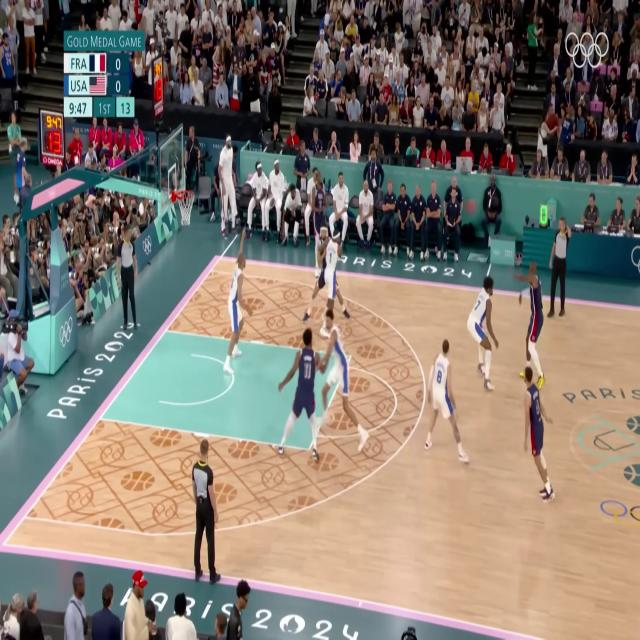player: (312, 304, 374, 471), (410, 321, 465, 482), (511, 362, 565, 512), (288, 327, 328, 472), (505, 253, 549, 384), (304, 208, 355, 321), (218, 247, 255, 381), (468, 269, 503, 390)
